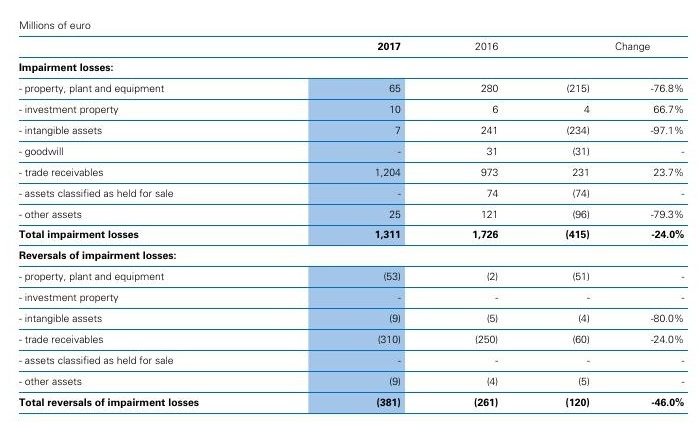table: (0, 0, 699, 423)
